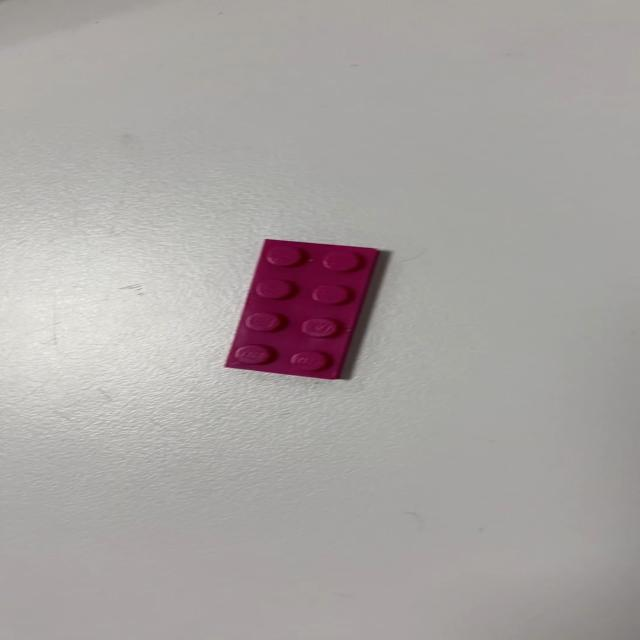C4x2x0: (222, 238, 381, 380)
